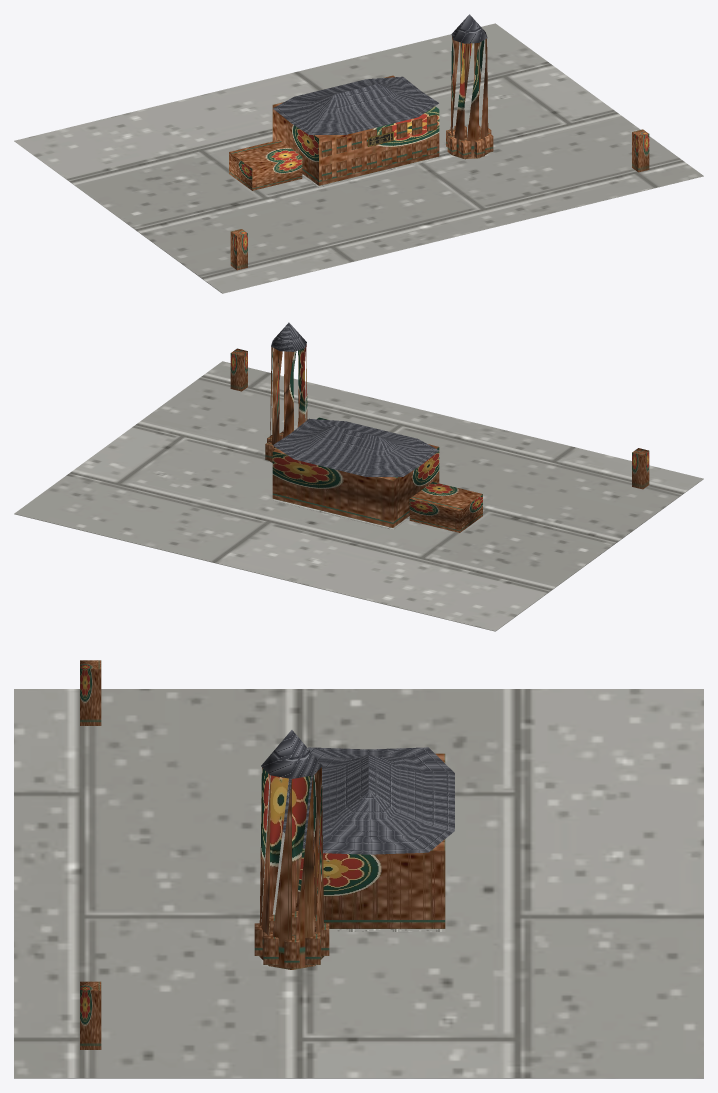
3 renders of one model, top to bottom at view 1: azimuth 30°, elevation 25°; view 2: azimuth 150°, elevation 25°; view 3: azimuth 270°, elevation 25°, orthographic. The views are drawn at different scales.
Parts seen in each view (by area): view 1: 11680_01_06085_005_01_L2__base, 11680_01_06085_005_02_L2__body, 11680_01_06085_005_03_L2__roof, 11680_01_06085_005_05_L2__openings, 11680_01_06085_005_06_L2__green; view 2: 11680_01_06085_005_01_L2__base, 11680_01_06085_005_02_L2__body, 11680_01_06085_005_03_L2__roof, 11680_01_06085_005_06_L2__green; view 3: 11680_01_06085_005_01_L2__base, 11680_01_06085_005_02_L2__body, 11680_01_06085_005_03_L2__roof, 11680_01_06085_005_06_L2__green.
Part boxes in pixels (x1,y1,x2,y2): 11680_01_06085_005_01_L2__base: [14, 23, 703, 293]; 11680_01_06085_005_02_L2__body: [229, 36, 493, 190]; 11680_01_06085_005_03_L2__roof: [273, 14, 487, 134]; 11680_01_06085_005_05_L2__openings: [321, 114, 437, 180]; 11680_01_06085_005_06_L2__green: [230, 129, 649, 270]; 11680_01_06085_005_01_L2__base: [14, 361, 703, 631]; 11680_01_06085_005_02_L2__body: [265, 344, 482, 532]; 11680_01_06085_005_03_L2__roof: [271, 322, 438, 476]; 11680_01_06085_005_06_L2__green: [230, 348, 649, 489]; 11680_01_06085_005_01_L2__base: [14, 689, 703, 1078]; 11680_01_06085_005_02_L2__body: [254, 753, 445, 969]; 11680_01_06085_005_03_L2__roof: [261, 730, 454, 854]; 11680_01_06085_005_06_L2__green: [80, 660, 101, 1049].
Bounding box in the file's own units: 96 × 26.2 × 72.
5 materials, 5 textured.
